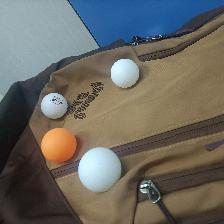WhiteBall: (77, 146, 121, 191), (110, 58, 139, 87), (40, 92, 67, 118)
YellowBall: (41, 127, 76, 162)
